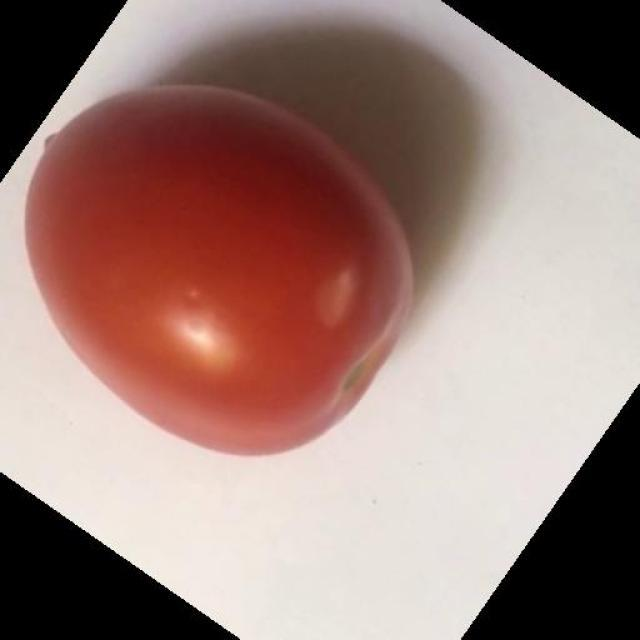Fresh Tomato: (4, 82, 442, 467)
